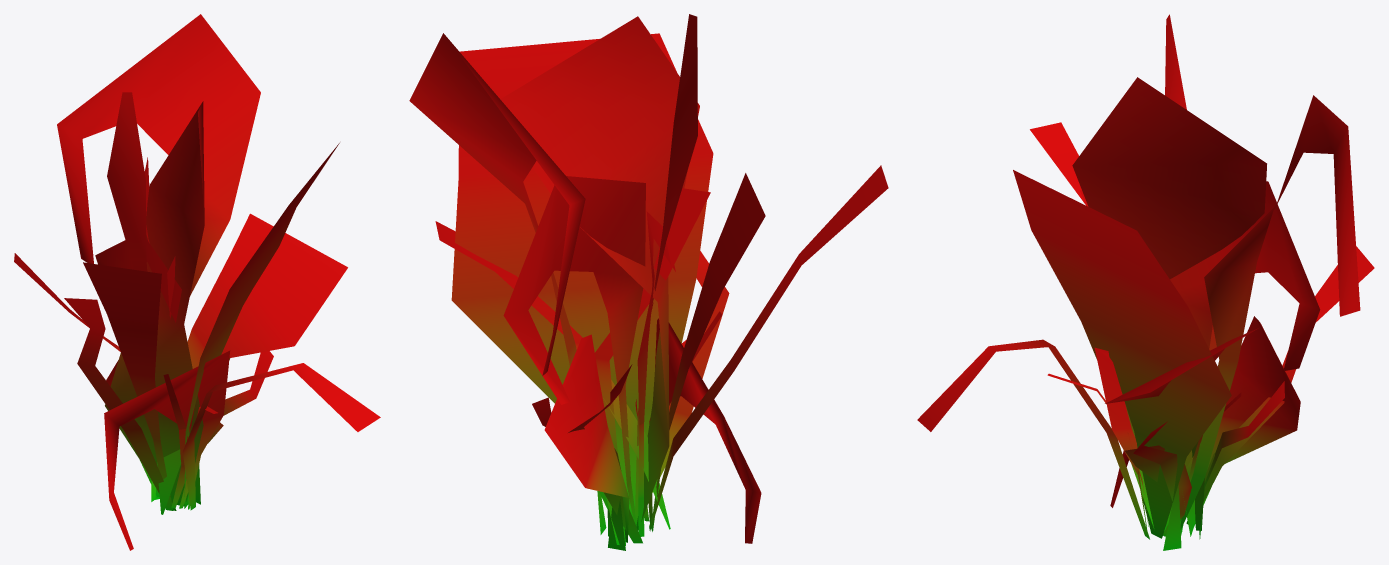
Rendered from Dry Meadow Grass_LOD2_Var5_skljc.fbx.
The picture shows the model from 3 angles, left to right: view 1: azimuth 30°, elevation 25°; view 2: azimuth 150°, elevation 25°; view 3: azimuth 270°, elevation 25°; orthographic projection. The views are drawn at different scales.
Parts seen in each view (by area): view 1: _6076_Var5_LOD2; view 2: _6076_Var5_LOD2; view 3: _6076_Var5_LOD2.
Part boxes in pixels (x1,y1,x2,y2): _6076_Var5_LOD2: (14,14,380,550); _6076_Var5_LOD2: (409,14,888,550); _6076_Var5_LOD2: (917,14,1374,550).
Size of the model in its own units: 40.73 by 52.42 by 43.31.
